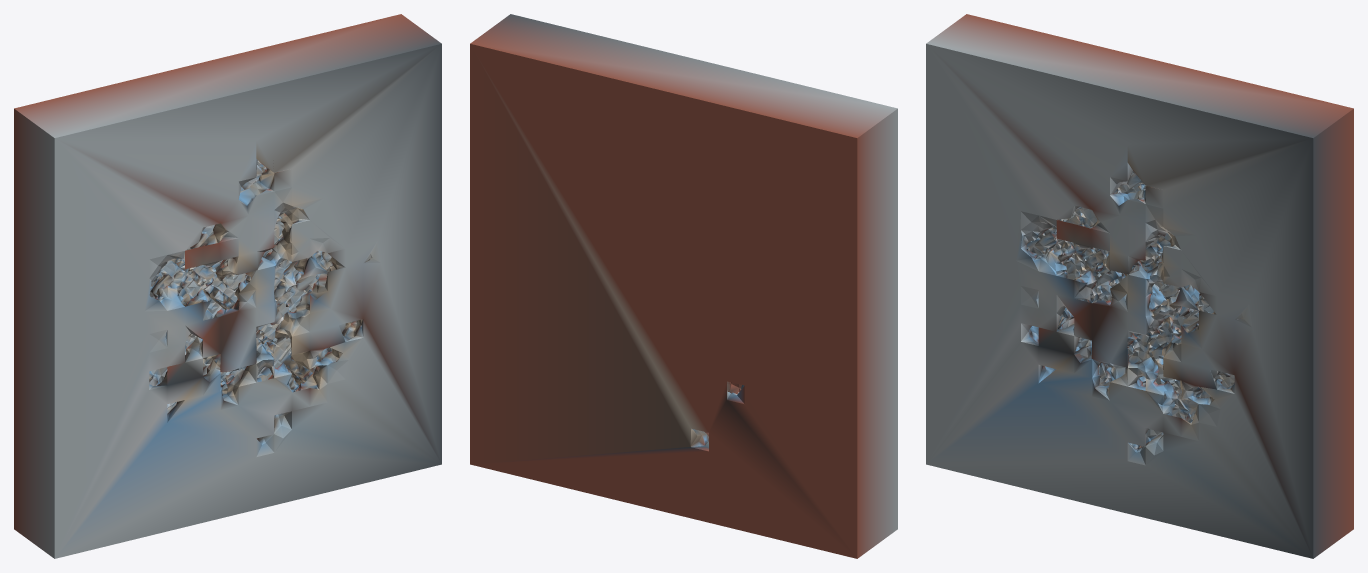
3 views of the same model, side by side, from view 1: azimuth 30°, elevation 25°; view 2: azimuth 150°, elevation 25°; view 3: azimuth 330°, elevation 25° (orthographic).
Parts seen in each view (by area): view 1: node_0; view 2: node_0; view 3: node_0.
Boxes of the visible parts, x1,y1,x2,y2 form: node_0: (14, 14, 441, 558); node_0: (470, 14, 897, 558); node_0: (926, 14, 1353, 558).
Bounding box in the file's own units: 44.13 × 45.81 × 8.15.
